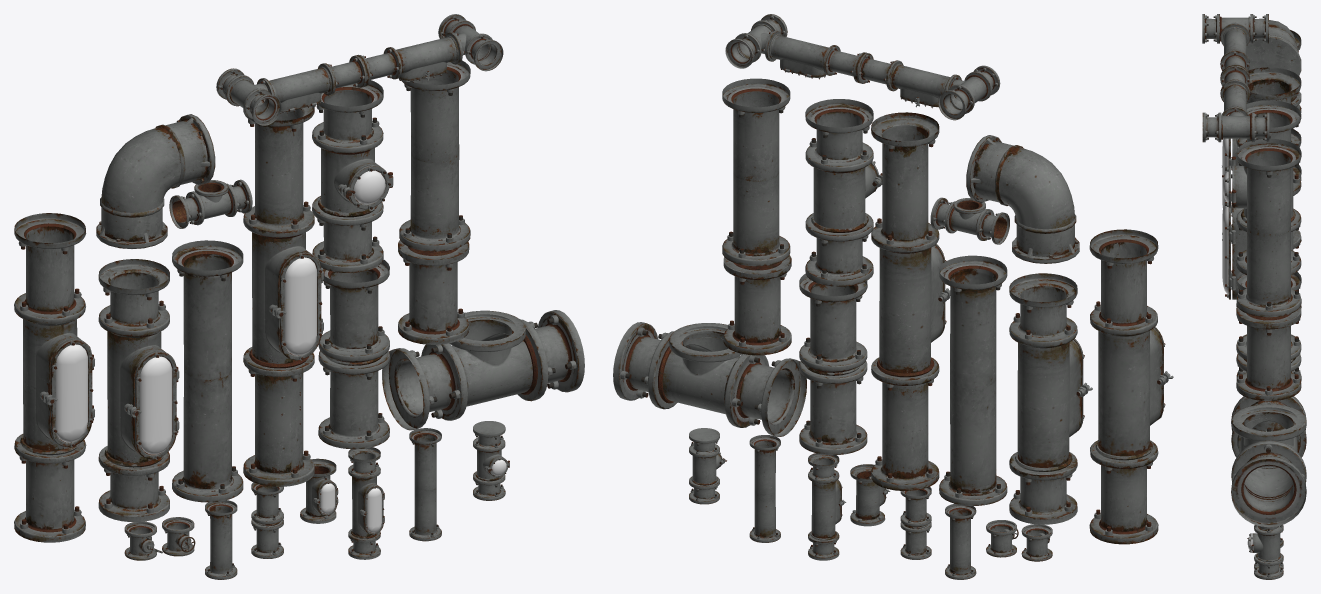
Rendered from GasPipe.fbx.
3 renders of one model, left to right at view 1: azimuth 30°, elevation 25°; view 2: azimuth 150°, elevation 25°; view 3: azimuth 270°, elevation 25°, orthographic. The views are drawn at different scales.
Visible parts, largest first — view 1: SM_BigGasPipe_11M_A.mo, SM_BigGasPipe_9M_A.mo, SM_BigGasPipe_7M_A.mo, SM_GasPipe_2M_3Way.mo, SM_BigGasPipeNoWindow_7M_A.mo, SM_BigGasPipe_5M_A.mo, SM_BigGasPipeNoWindow_5M_B.mo, SM_GasPipe_8m_Connection.mo, SM_BigGasPipe_Turn_A.mo, SM_BigGasPipeNoWindow_5M_A.mo, SM_BigGasPipe_2M_A.mo, SM_GasPipe_3M_A.mo (+8 smaller); view 2: SM_BigGasPipe_11M_A.mo, SM_BigGasPipe_9M_A.mo, SM_BigGasPipe_7M_A.mo, SM_GasPipe_2M_3Way.mo, SM_BigGasPipeNoWindow_7M_A.mo, SM_BigGasPipe_5M_A.mo, SM_BigGasPipeNoWindow_5M_A.mo, SM_BigGasPipeNoWindow_5M_B.mo, SM_GasPipe_8m_Connection.mo, SM_BigGasPipe_Turn_A.mo, SM_BigGasPipe_2M_A.mo, SM_GasPipe_3M_A.mo (+8 smaller); view 3: SM_GasPipe_2M_3Way.mo, SM_BigGasPipeNoWindow_5M_A.mo, SM_GasPipe_8m_Connection.mo, SM_BigGasPipe_2M_A.mo, SM_BigGasPipe_11M_A.mo, SM_BigGasPipe_5M_A.mo, SM_BigGasPipe_Turn_A.mo, SM_GasPipe_2M_A.mo, SM_BigGasPipeNoWindow_5M_B.mo, SM_BigGasPipe_9M_A.mo, SM_BigGasPipe_7M_A.mo, SM_BigGasPipeNoWindow_7M_A.mo.
Part boxes in pixels (bbox=[...]): SM_BigGasPipe_11M_A.mo: bbox=[243, 106, 323, 486]; SM_BigGasPipe_9M_A.mo: bbox=[14, 213, 94, 542]; SM_BigGasPipe_7M_A.mo: bbox=[98, 259, 179, 521]; SM_GasPipe_2M_3Way.mo: bbox=[382, 310, 584, 430]; SM_BigGasPipeNoWindow_7M_A.mo: bbox=[172, 240, 243, 502]; SM_BigGasPipe_5M_A.mo: bbox=[312, 80, 393, 272]; SM_BigGasPipeNoWindow_5M_B.mo: bbox=[318, 259, 389, 449]; SM_GasPipe_8m_Connection.mo: bbox=[216, 14, 503, 125]; SM_BigGasPipe_Turn_A.mo: bbox=[96, 114, 215, 248]; SM_BigGasPipeNoWindow_5M_A.mo: bbox=[399, 60, 470, 251]; SM_BigGasPipe_2M_A.mo: bbox=[398, 240, 469, 344]; SM_GasPipe_3M_A.mo: bbox=[348, 447, 384, 559]; SM_BigGasPipe_11M_A.mo: bbox=[871, 112, 950, 490]; SM_BigGasPipe_9M_A.mo: bbox=[1089, 229, 1173, 544]; SM_BigGasPipe_7M_A.mo: bbox=[1009, 273, 1092, 524]; SM_GasPipe_2M_3Way.mo: bbox=[613, 322, 806, 436]; SM_BigGasPipeNoWindow_7M_A.mo: bbox=[939, 255, 1007, 505]; SM_BigGasPipe_5M_A.mo: bbox=[805, 99, 882, 286]; SM_BigGasPipeNoWindow_5M_A.mo: bbox=[722, 78, 790, 266]; SM_BigGasPipeNoWindow_5M_B.mo: bbox=[799, 274, 867, 455]; SM_GasPipe_8m_Connection.mo: bbox=[725, 14, 1000, 120]; SM_BigGasPipe_Turn_A.mo: bbox=[966, 135, 1079, 263]; SM_BigGasPipe_2M_A.mo: bbox=[723, 255, 791, 355]; SM_GasPipe_3M_A.mo: bbox=[808, 453, 846, 560]; SM_GasPipe_2M_3Way.mo: bbox=[1231, 396, 1306, 527]; SM_BigGasPipeNoWindow_5M_A.mo: bbox=[1236, 138, 1301, 317]; SM_GasPipe_8m_Connection.mo: bbox=[1202, 14, 1269, 142]; SM_BigGasPipe_2M_A.mo: bbox=[1236, 307, 1301, 401]; SM_BigGasPipe_11M_A.mo: bbox=[1222, 67, 1301, 309]; SM_BigGasPipe_5M_A.mo: bbox=[1222, 100, 1301, 274]; SM_BigGasPipe_Turn_A.mo: bbox=[1246, 20, 1301, 106]; SM_GasPipe_2M_A.mo: bbox=[1247, 525, 1283, 579]; SM_BigGasPipeNoWindow_5M_B.mo: bbox=[1236, 272, 1301, 431]; SM_BigGasPipe_9M_A.mo: bbox=[1222, 30, 1301, 308]; SM_BigGasPipe_7M_A.mo: bbox=[1222, 128, 1301, 345]; SM_BigGasPipeNoWindow_7M_A.mo: bbox=[1236, 165, 1301, 381].
Size of the model in its own units: 1722 by 1560 by 315.
